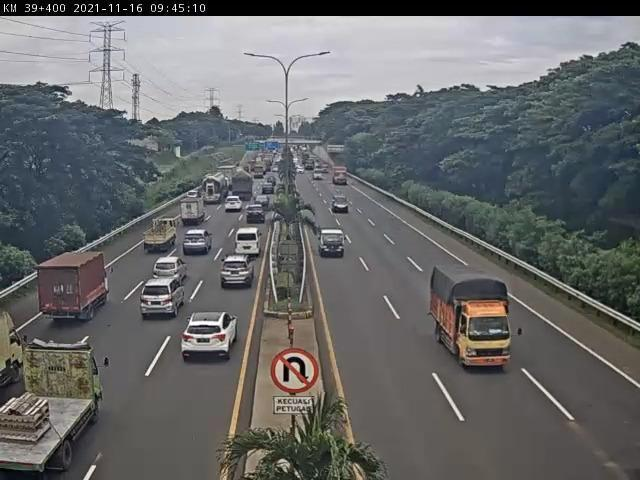car: (183, 314, 235, 360), (141, 280, 185, 319), (221, 255, 254, 289), (153, 259, 187, 284), (238, 228, 265, 258), (181, 233, 210, 258), (321, 230, 346, 258), (225, 194, 246, 213), (245, 208, 266, 227), (334, 197, 352, 214), (253, 196, 271, 211)
truck: (2, 341, 109, 474), (431, 267, 515, 375), (38, 252, 108, 322), (141, 220, 177, 255), (232, 172, 259, 204), (201, 172, 226, 202), (179, 199, 204, 228)
